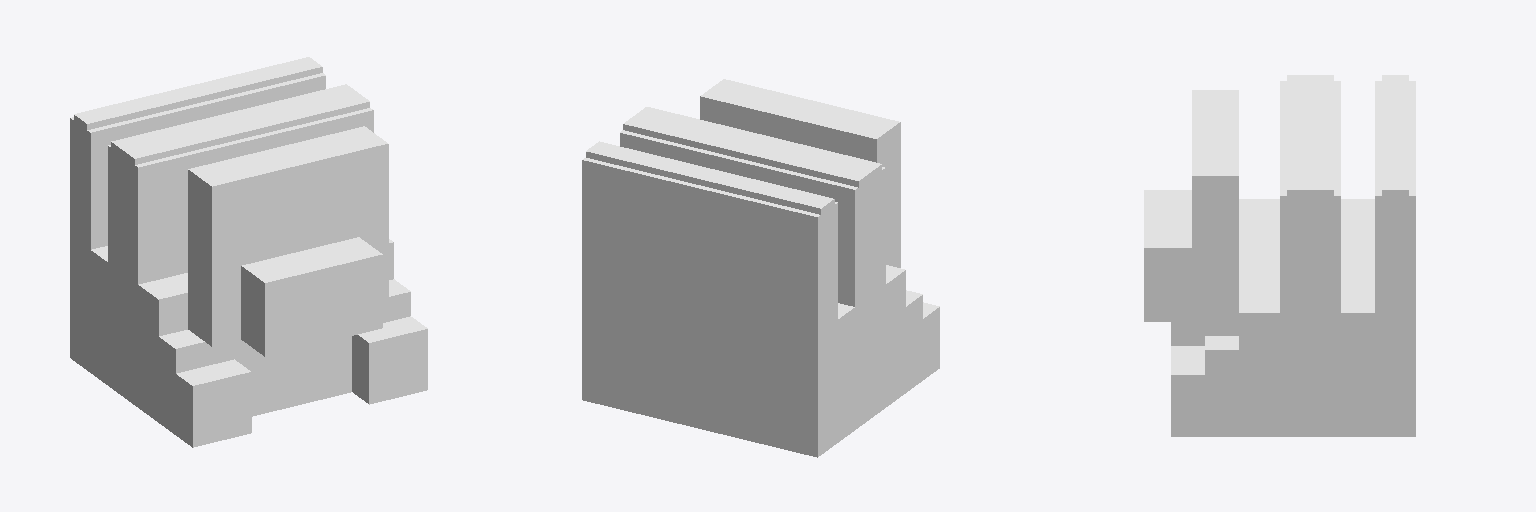
The model's file is Camel.obj.
3 views of the same model, side by side, from view 1: azimuth 30°, elevation 25°; view 2: azimuth 150°, elevation 25°; view 3: azimuth 270°, elevation 25° (orthographic).
Visible parts, largest first — view 1: Camel; view 2: Camel; view 3: Camel.
Part boxes in pixels (x1,y1,x2,y2): Camel: (70,57,427,447); Camel: (582,79,939,457); Camel: (1144,75,1415,436).
Bounding box in the file's own units: 40 × 40 × 40.